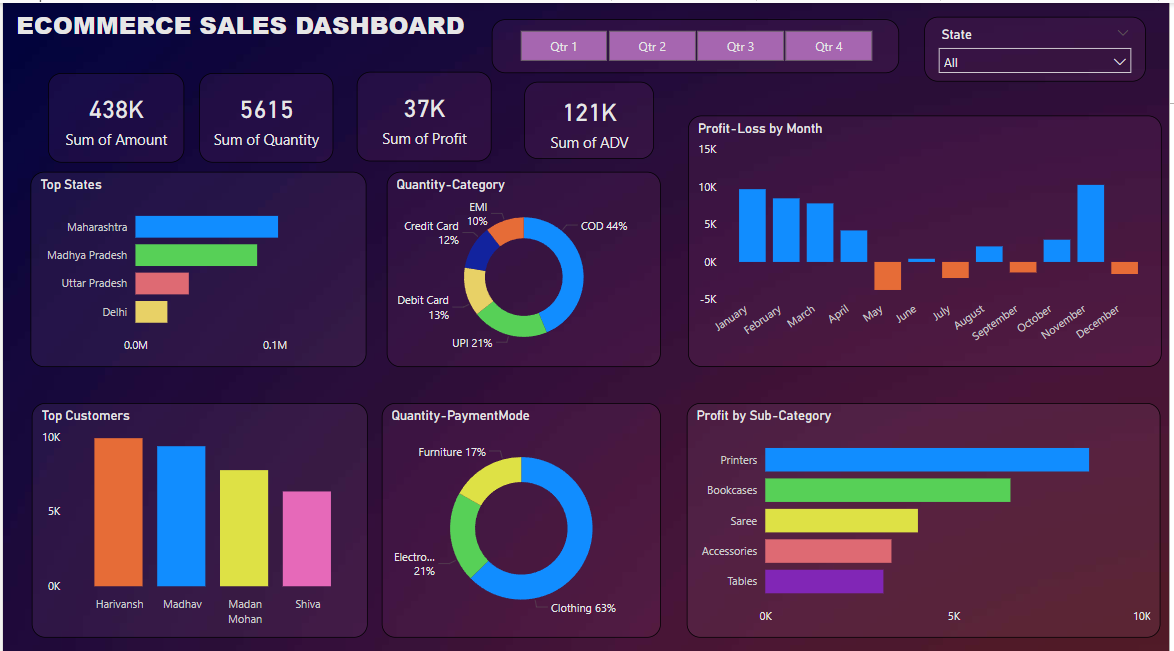

Layout of this report page (visuals, bound fields, positions):
{"tool":"powerbi","page":{"name":"Page 1","canvas":[1280,720],"ordinal":0},"visuals":[{"type":"textbox","box":[9.6,0,510.5,49.4],"z":0},{"type":"columnChart","title":"Profit-Loss by Month","fields":{"Y":["Details (2).Profit"],"Category":["Orders (2).Order Date.Variation.Date Hierarchy.Month"]},"box":[752,123.5,520.1,275.8],"z":1000},{"type":"barChart","title":"Profit by Sub-Category","fields":{"Category":["Details (2).Sub-Category"],"Y":["Details (2).Profit"]},"box":[750.6,439.1,520.1,258],"z":2000},{"type":"donutChart","title":"Quantity-PaymentMode","fields":{"Category":["Details (2).Category"],"Y":["Details (2).Quantity"]},"box":[415.8,439.1,306,258],"z":3000},{"type":"donutChart","title":" Quantity-Category","fields":{"Y":["Details (2).Quantity"],"Category":["Details (2).PaymentMode"]},"box":[421.3,185.2,300.5,214.1],"z":4000},{"type":"card","fields":{"Values":["Details (2).Amount"]},"box":[49.4,76.8,149.6,98.8],"z":5000},{"type":"card","fields":{"Values":["Details (2).Profit"]},"box":[388.3,75.5,148.2,98.8],"z":6000},{"type":"card","fields":{"Values":["Details (2).Quantity"]},"box":[215.4,76.8,146.8,98.8],"z":7000},{"type":"card","fields":{"Values":["Details (2).ADV"]},"box":[572.2,86.4,142.7,85.1],"z":8000},{"type":"barChart","title":"Top States","fields":{"Category":["Orders (2).State"],"Y":["Details (2).Amount"]},"box":[30.2,185.2,369.1,214.1],"z":9000},{"type":"columnChart","title":"Top Customers","fields":{"Category":["Orders (2).CustomerName"],"Y":["Details (2).Amount"]},"box":[31.6,439.1,369.1,258],"z":10000},{"type":"slicer","fields":{"Values":["Orders (2).Order Date.Variation.Date Hierarchy.Quarter"]},"box":[536.5,17.8,447.3,59],"z":11000},{"type":"slicer","fields":{"Values":["Orders (2).State"]},"box":[1011.3,15.1,242.9,71.4],"z":12000}]}

Visuals, with their boxes in screenshot pixels (x1, y1, x2, y2), scaled from the page's 1280x720 canvas onto the 1174x651 screenshot:
textbox: detection(9, 0, 477, 45)
"Profit-Loss by Month" columnChart: detection(690, 112, 1167, 361)
"Profit by Sub-Category" barChart: detection(688, 397, 1165, 630)
"Quantity-PaymentMode" donutChart: detection(381, 397, 662, 630)
" Quantity-Category" donutChart: detection(386, 167, 662, 361)
card - Details (2).Amount: detection(45, 69, 183, 159)
card - Details (2).Profit: detection(356, 68, 492, 158)
card - Details (2).Quantity: detection(198, 69, 332, 159)
card - Details (2).ADV: detection(525, 78, 656, 155)
"Top States" barChart: detection(28, 167, 366, 361)
"Top Customers" columnChart: detection(29, 397, 368, 630)
slicer - Orders (2).Order Date.Variation.Date Hierarchy.Quarter: detection(492, 16, 902, 69)
slicer - Orders (2).State: detection(928, 14, 1150, 78)
